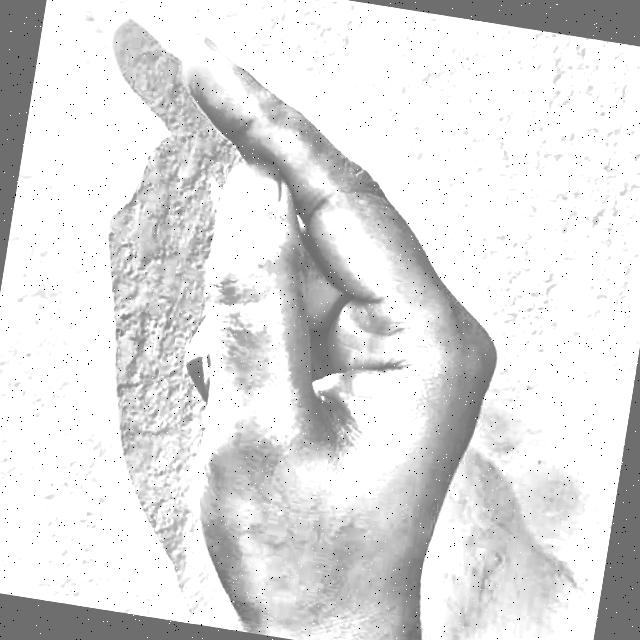Tha: (74, 12, 570, 640)
